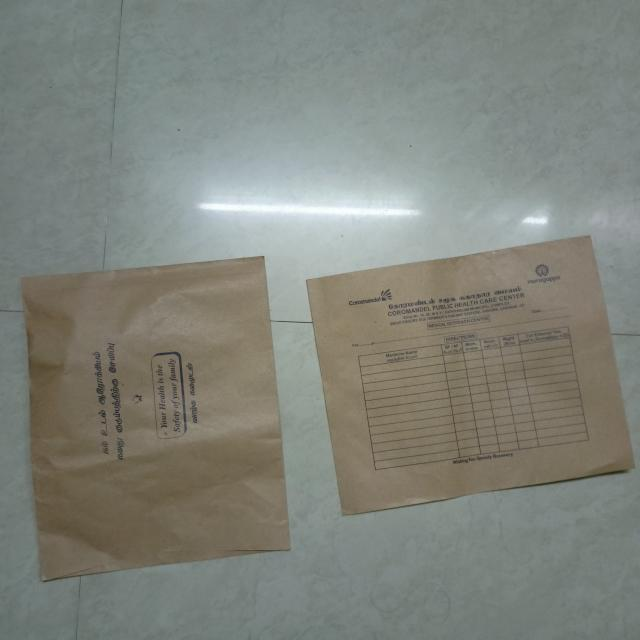box: (307, 233, 638, 519), (23, 256, 294, 588)
